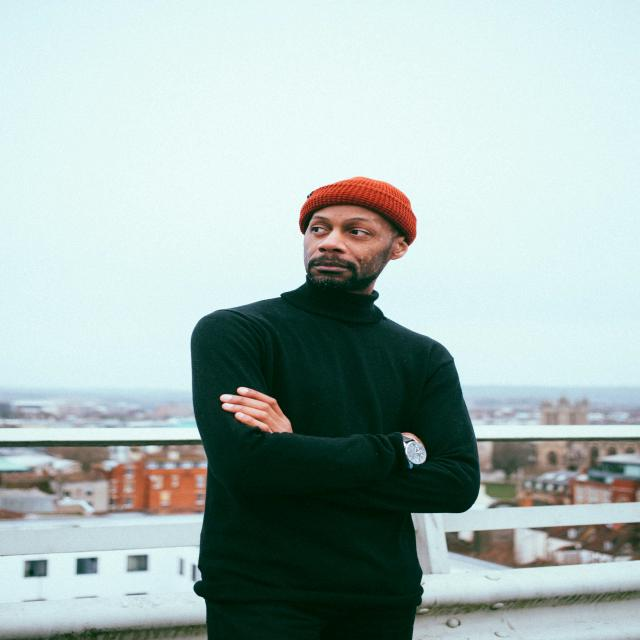adult: (189, 179, 475, 640)
